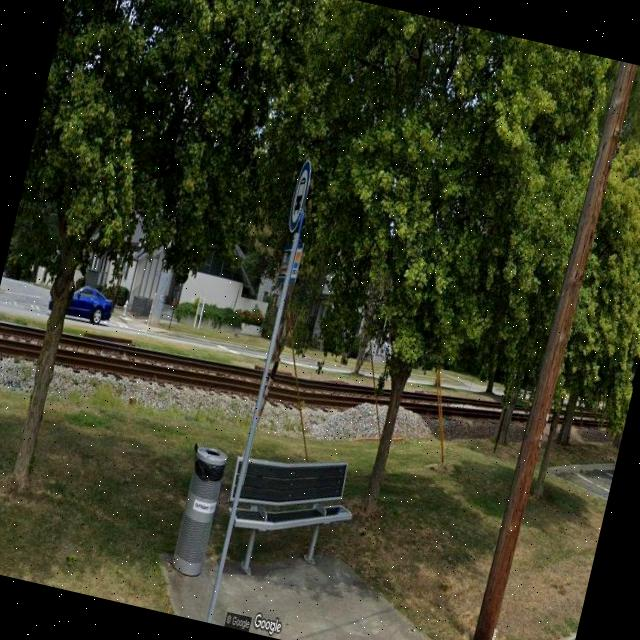seating: (210, 436, 364, 596)
trash_can: (168, 442, 230, 580)
